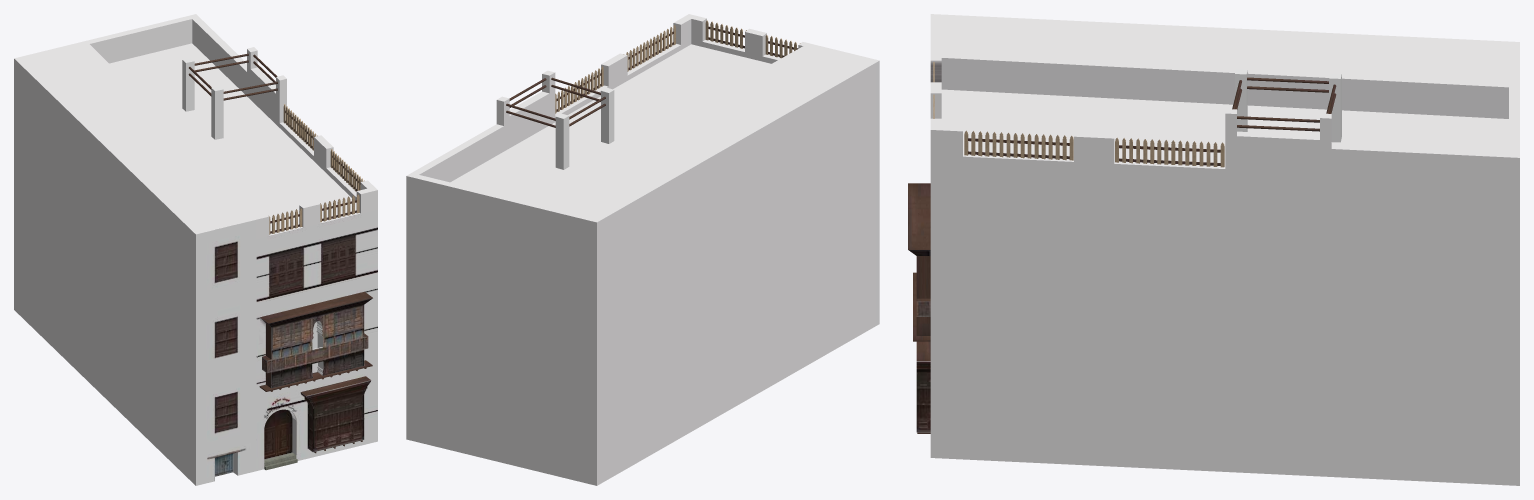
The picture shows the model from 3 angles, left to right: view 1: azimuth 30°, elevation 25°; view 2: azimuth 150°, elevation 25°; view 3: azimuth 270°, elevation 25°; orthographic projection. The views are drawn at different scales.
Visible parts, largest first — view 1: Box001_primitive3, Box001_primitive0, Box001_primitive2, Box001_primitive1, Box001_primitive4, Box001_primitive6; view 2: Box001_primitive3, Box001_primitive6, Box001_primitive4; view 3: Box001_primitive3, Box001_primitive4, Box001_primitive6, Box001_primitive1.
Part boxes in pixels (box(x1,y1,x2,y2)): Box001_primitive3: box(14, 14, 377, 485); Box001_primitive0: box(196, 219, 256, 485); Box001_primitive2: box(256, 274, 377, 388); Box001_primitive1: box(256, 358, 377, 470); Box001_primitive4: box(188, 53, 372, 453); Box001_primitive6: box(269, 104, 364, 234); Box001_primitive3: box(406, 14, 879, 485); Box001_primitive6: box(555, 20, 800, 113); Box001_primitive4: box(506, 26, 798, 127); Box001_primitive3: box(930, 14, 1519, 485); Box001_primitive4: box(908, 77, 1336, 433); Box001_primitive6: box(933, 62, 1224, 167); Box001_primitive1: box(916, 361, 930, 432).
Size of the model in its own units: 9.46 by 11.04 by 17.
Materials: 7 (7 with a texture image).
